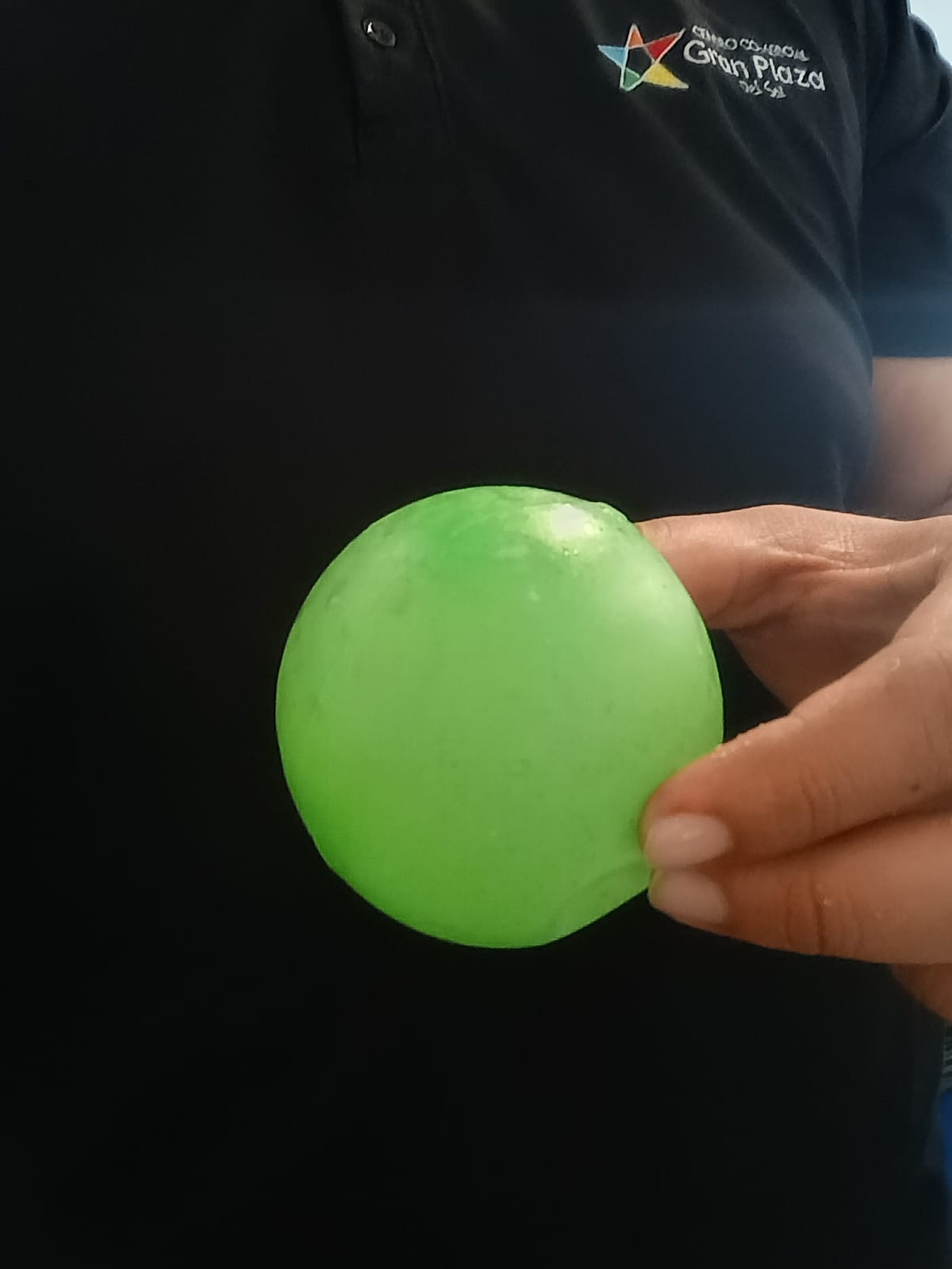Plastico: (278, 487, 726, 952)
